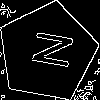N: (22, 27, 74, 70)
